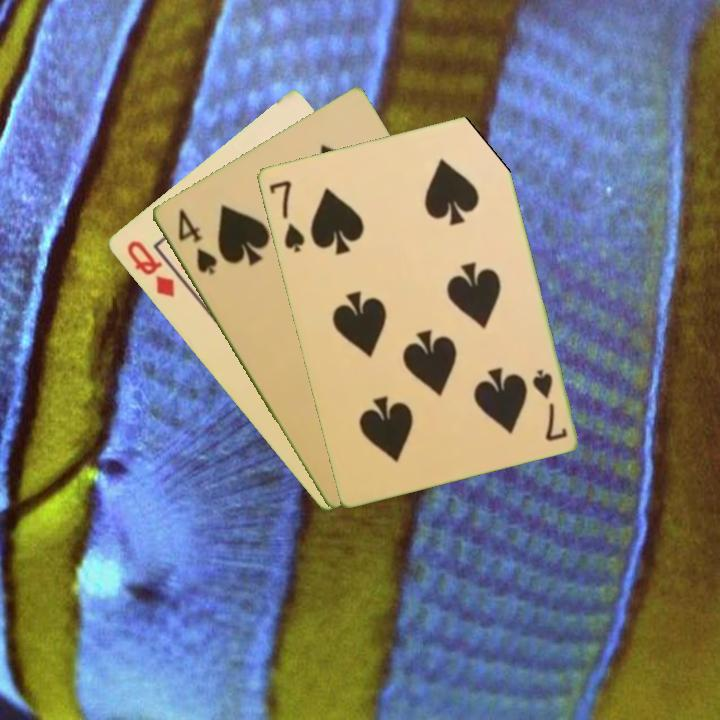4s: (173, 205, 220, 278)
7s: (265, 176, 308, 255), (528, 365, 570, 444)
Qd: (123, 236, 177, 301)
